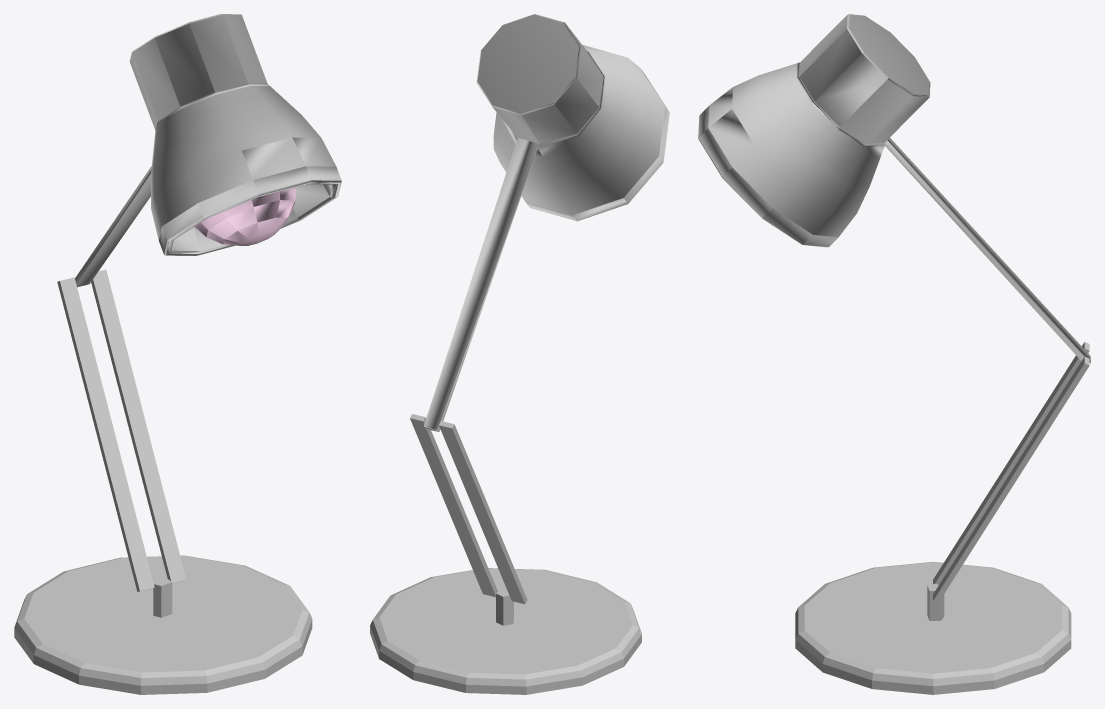
Rendered from Desk_Lamp01_SM.fbx.
3 renders of one model, left to right at view 1: azimuth 30°, elevation 25°; view 2: azimuth 150°, elevation 25°; view 3: azimuth 270°, elevation 25°, orthographic. The views are drawn at different scales.
Visible parts, largest first — view 1: pSphere4; view 2: pSphere4; view 3: pSphere4.
Part boxes in pixels (left/top/right/bottom): pSphere4: left=14, top=14, right=341, bottom=694; pSphere4: left=370, top=14, right=669, bottom=694; pSphere4: left=698, top=14, right=1090, bottom=694.
Size of the model in its own units: 412 by 986 by 572.
